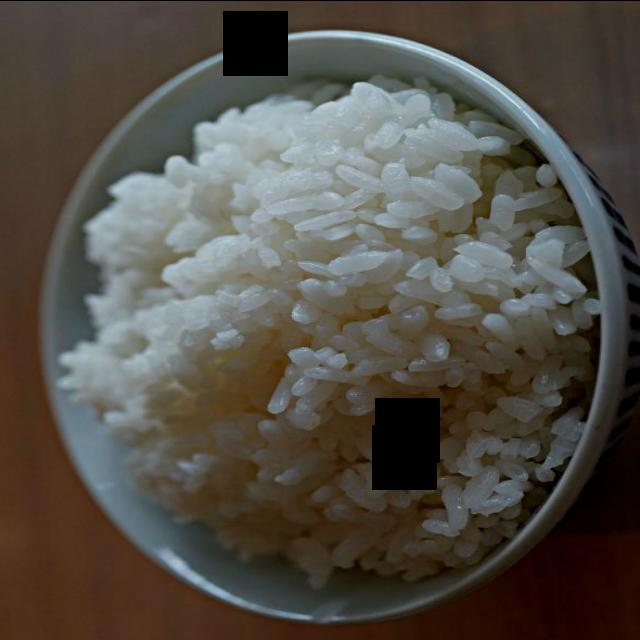rice: (59, 72, 605, 590)
